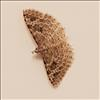Alucitidae: (19, 6, 73, 87)
moth: (21, 8, 75, 89)
